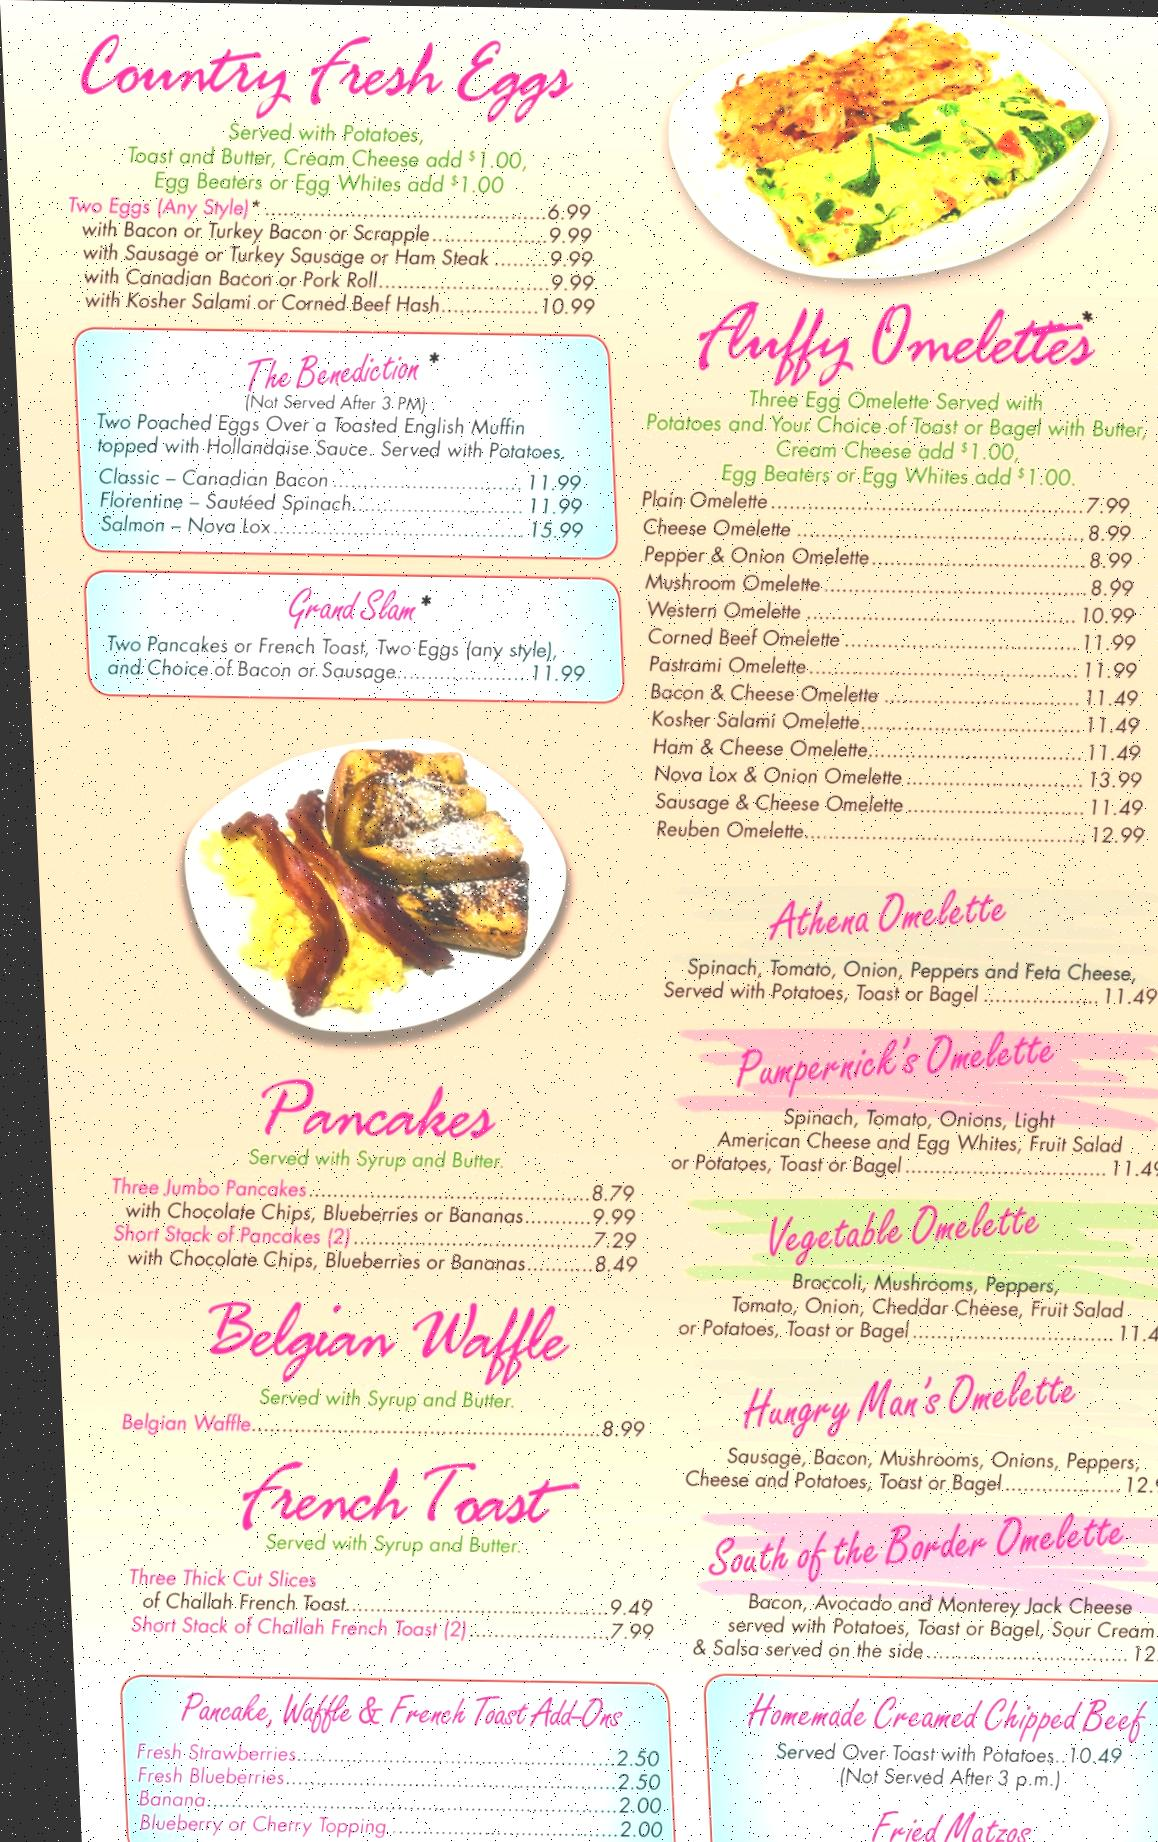Menu-Items: (75, 332, 602, 558), (655, 276, 1158, 492), (67, 12, 598, 197), (93, 1683, 656, 1842), (664, 1022, 1158, 1187), (652, 1188, 1158, 1348), (53, 191, 635, 323), (720, 1670, 1145, 1842), (679, 1517, 1158, 1666), (675, 1360, 1158, 1503), (655, 882, 1158, 1018), (91, 583, 599, 690), (96, 1382, 668, 1454), (83, 1224, 646, 1290), (103, 1553, 654, 1618), (104, 1160, 638, 1227), (88, 1606, 662, 1661), (636, 808, 1158, 862), (628, 475, 1146, 516), (636, 647, 1154, 683), (640, 620, 1133, 656), (639, 678, 1146, 712), (640, 731, 1154, 764), (647, 786, 1145, 818), (627, 539, 1139, 570), (636, 567, 1130, 598), (636, 703, 1150, 731), (631, 596, 1130, 624), (636, 763, 1147, 790), (635, 514, 1143, 538)
